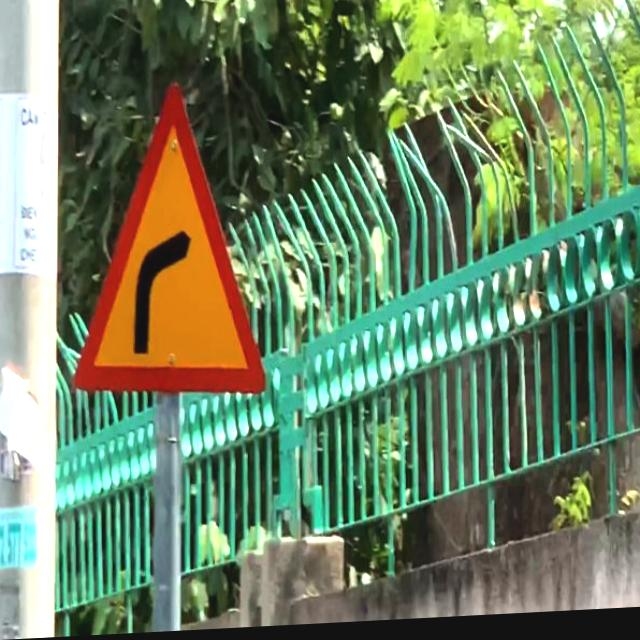cho ngoat nguy hiem vong ben phai: (59, 49, 278, 428)
